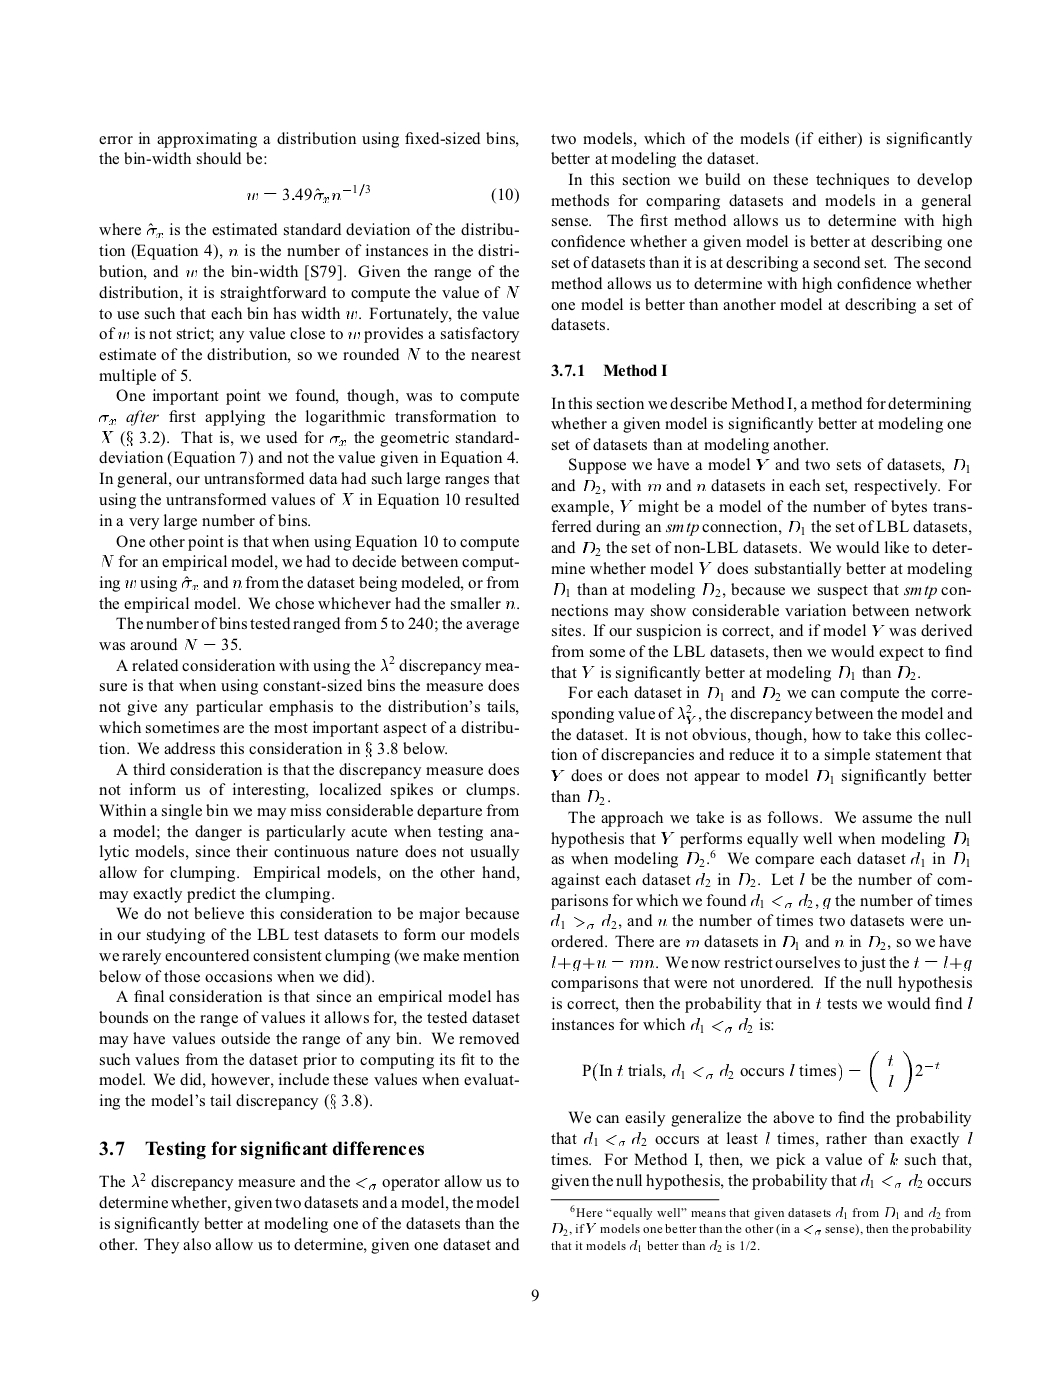figure: (549, 1198, 719, 1201)
formula: (582, 1050, 940, 1092), (247, 182, 518, 204)
